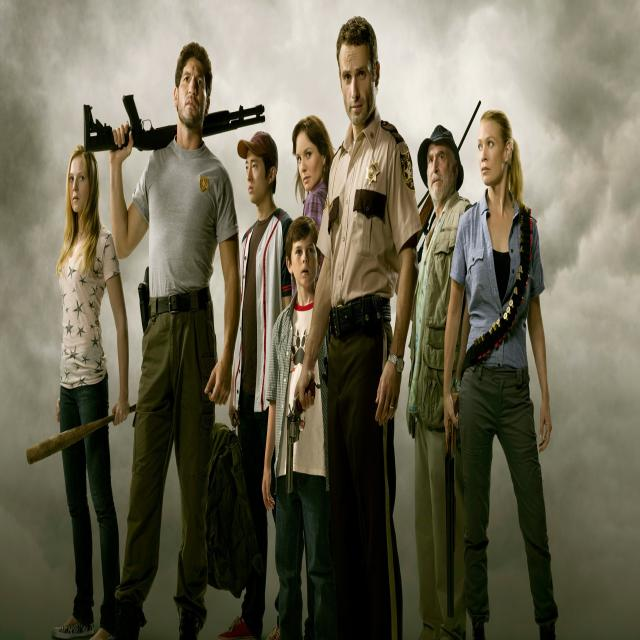body: (98, 36, 243, 640), (292, 15, 424, 640), (440, 105, 561, 639), (405, 123, 475, 640), (58, 143, 130, 637), (225, 129, 294, 640), (261, 216, 332, 640), (289, 110, 333, 302)
